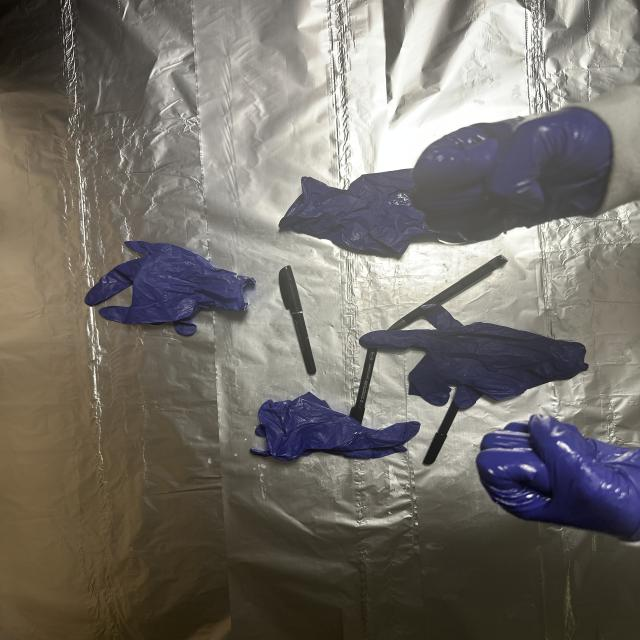gloves_contaminated: (412, 108, 613, 241), (476, 415, 640, 541)
